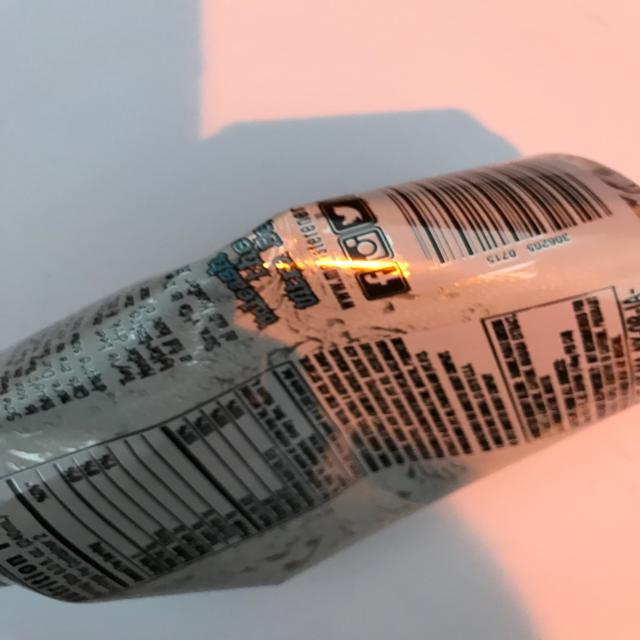metal: (1, 151, 639, 604)
